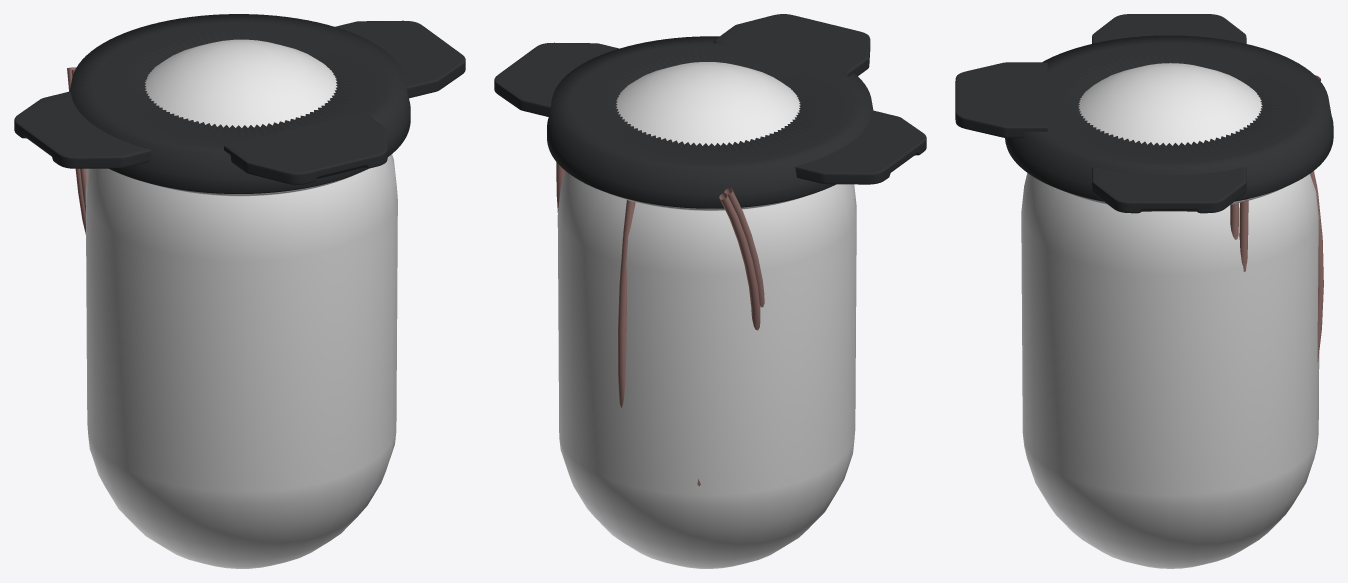
File: security_cam.fbx
3 renders of one model, left to right at view 1: azimuth 30°, elevation 25°; view 2: azimuth 150°, elevation 25°; view 3: azimuth 270°, elevation 25°, orthographic. The views are drawn at different scales.
Parts seen in each view (by area): view 1: Sphere, Sci-fi Power generator Free; view 2: Sphere, Sci-fi Power generator Free, c3, c3.001; view 3: Sphere, Sci-fi Power generator Free, c3.
Boxes of the visible parts, x1=… form: Sphere: x1=85, y1=39, x2=397, y2=568; Sci-fi Power generator Free: x1=14, y1=14, x2=465, y2=193; Sphere: x1=557, y1=62, x2=856, y2=568; Sci-fi Power generator Free: x1=494, y1=14, x2=926, y2=208; c3: x1=556, y1=162, x2=760, y2=407; c3.001: x1=724, y1=188, x2=764, y2=307; Sphere: x1=1021, y1=63, x2=1319, y2=568; Sci-fi Power generator Free: x1=955, y1=14, x2=1333, y2=213; c3: x1=1239, y1=75, x2=1323, y2=362.
Size of the model in its own units: 397 by 469 by 336.
